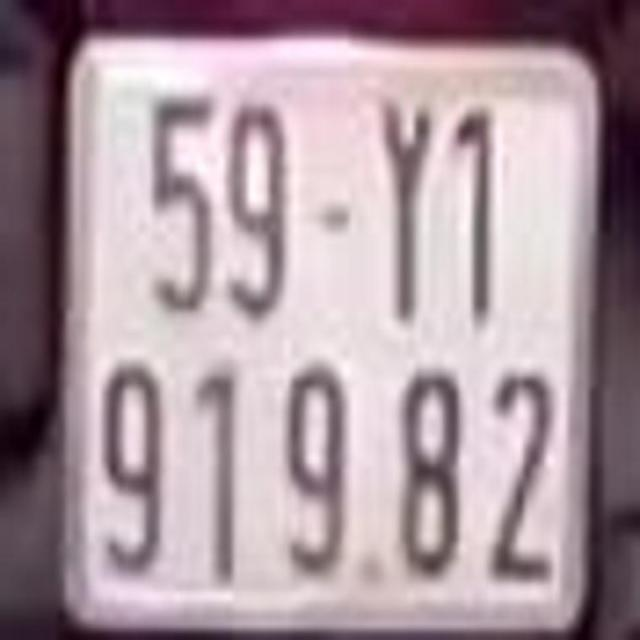1: (453, 100, 497, 319), (193, 380, 241, 567)
2: (489, 374, 554, 582)
5: (155, 101, 216, 316)
8: (400, 367, 461, 570)
9: (100, 364, 168, 564), (230, 108, 287, 310), (291, 370, 340, 568)
Y: (375, 106, 429, 321)
